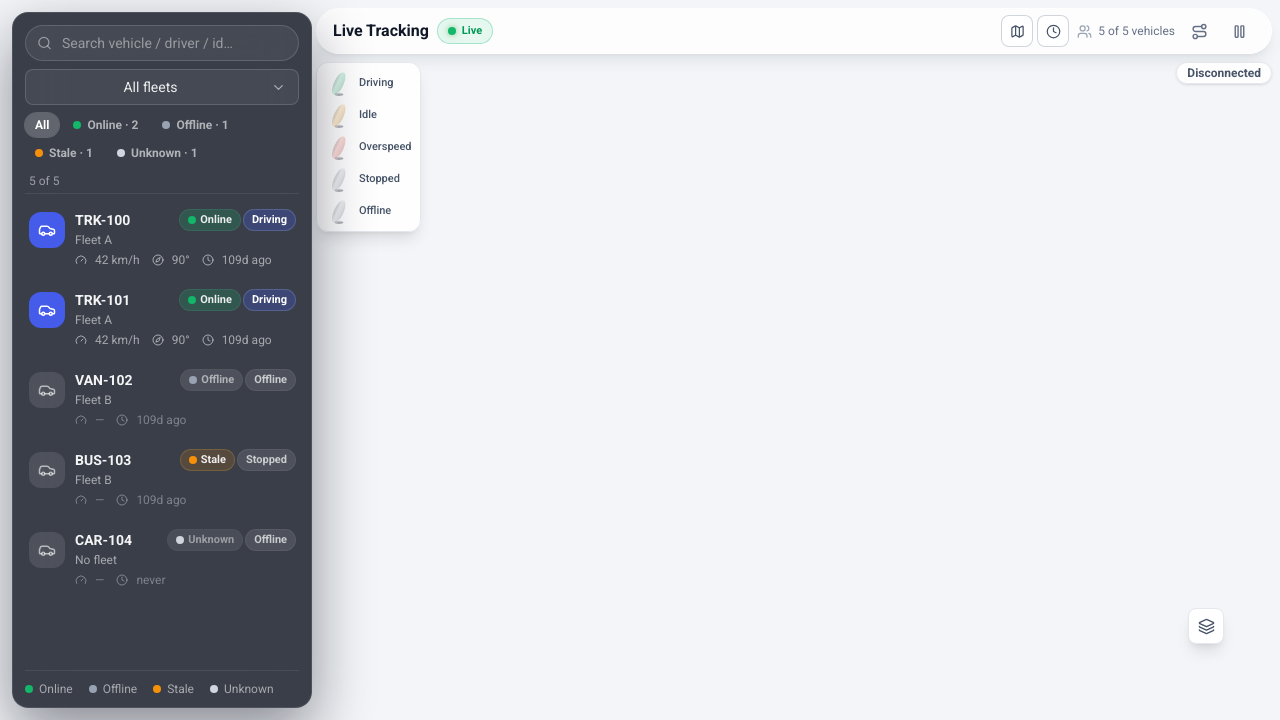
it: MapPage (Live Tracking) › filters the list by a presence chip
Check: the text "TRK-100" is shown, box [75,210,130,230]
Click the button "Offline · 1". click: (196, 125)
box: [152,113,239,137]
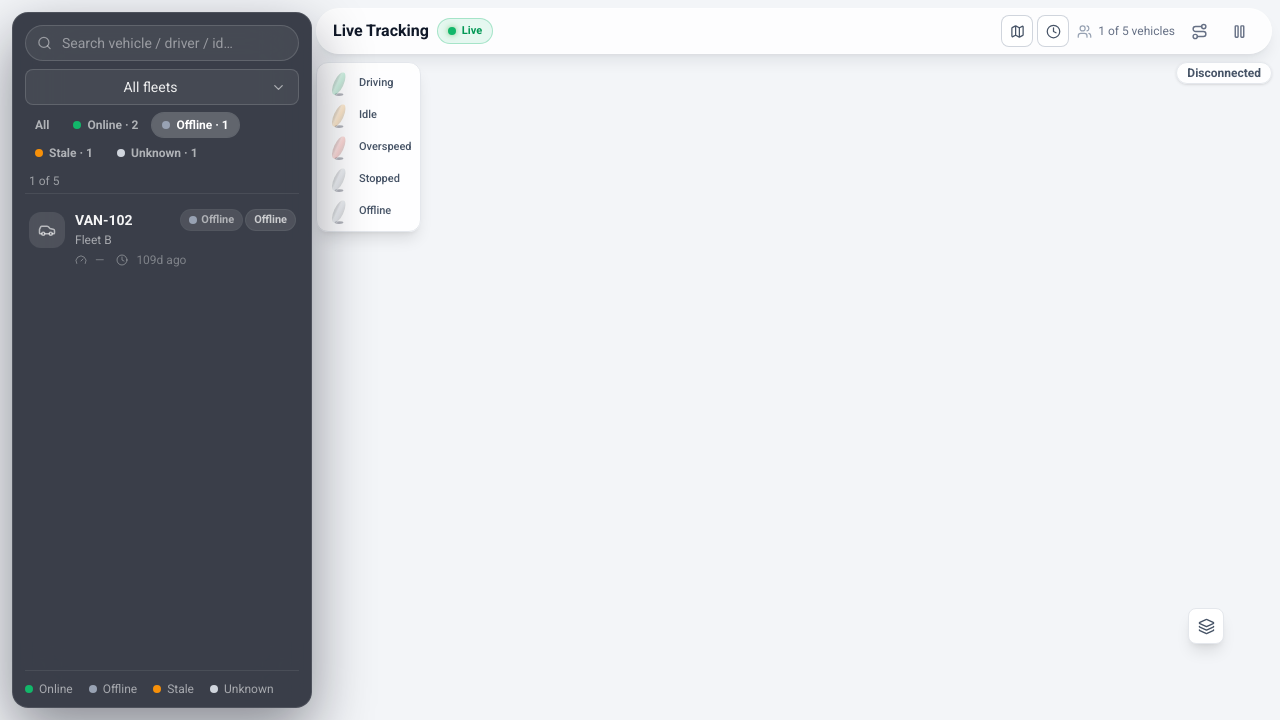
Check: the text "VAN-102" is shown, box [75,210,132,230]
Check: the button "TRK-100" is gone
